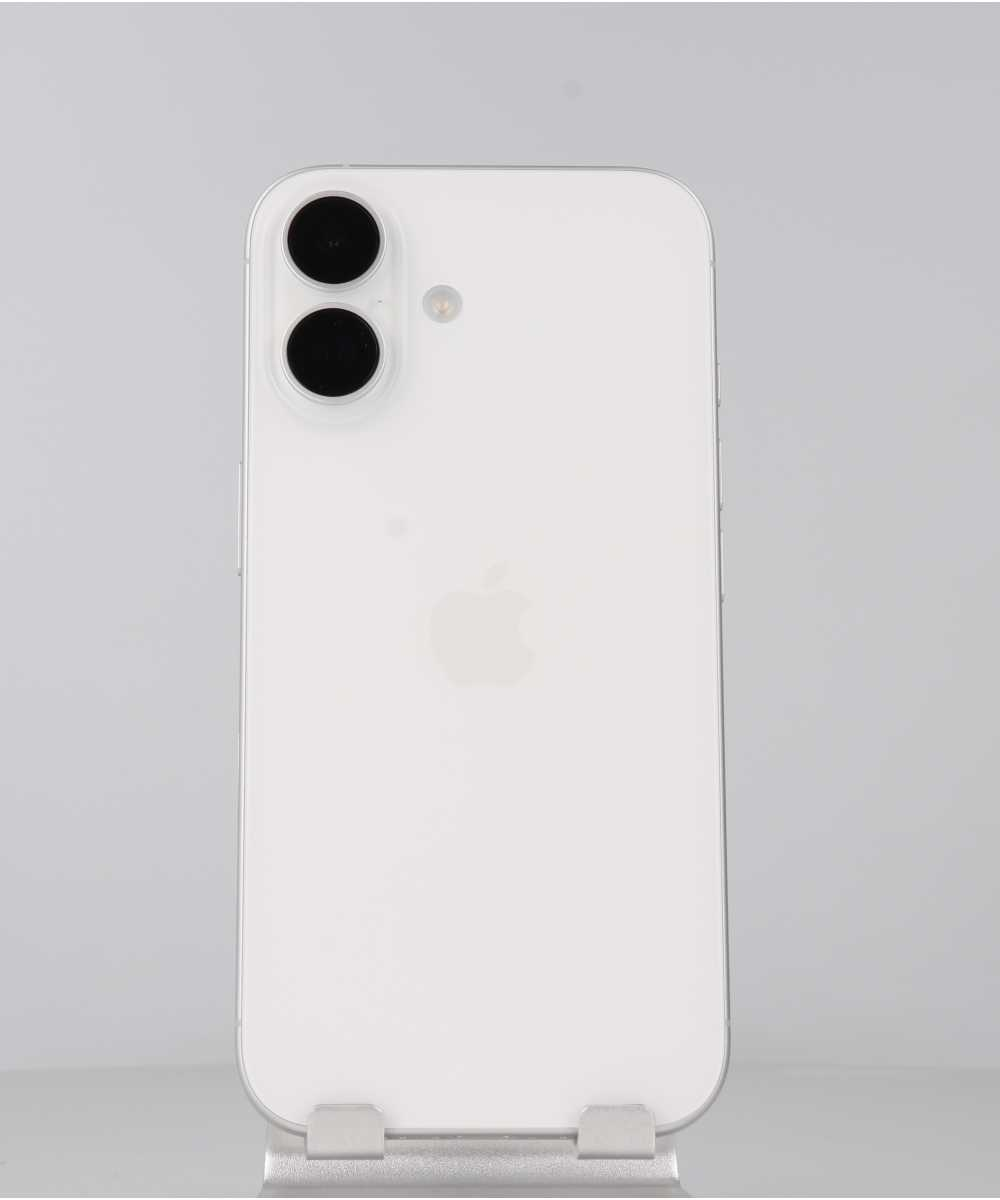iphone16_white: (213, 147, 757, 1138), (246, 171, 490, 438)
